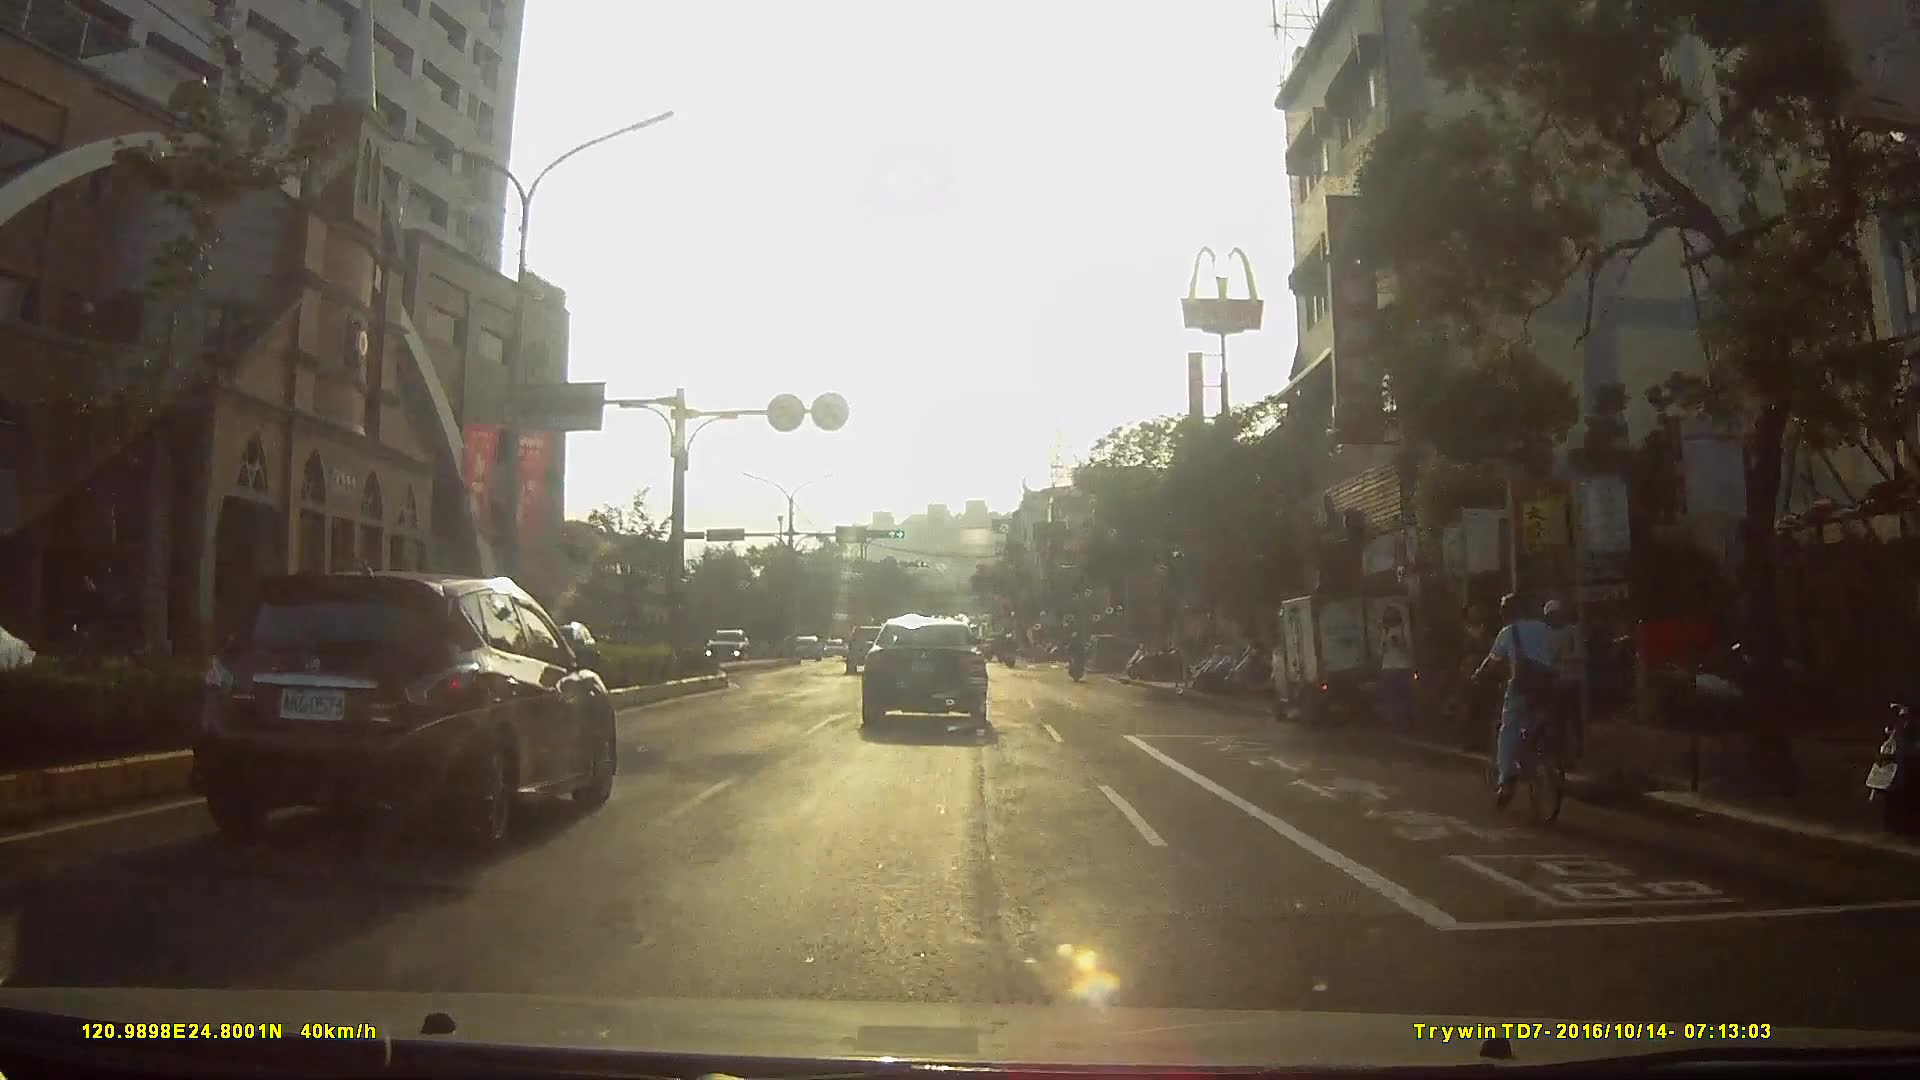pedestrian: (1529, 598, 1592, 767), (1451, 595, 1506, 761), (1375, 599, 1420, 737)
rider: (1460, 585, 1572, 826), (1067, 627, 1092, 685)
vehicle: (174, 563, 631, 851), (1259, 580, 1438, 736), (861, 610, 1006, 736), (841, 619, 900, 674), (699, 623, 753, 665), (782, 630, 816, 663)
